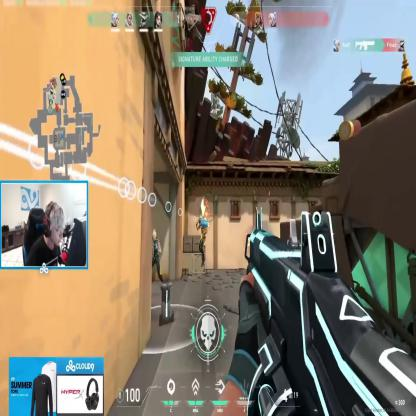enemy: (144, 228, 164, 288), (195, 212, 207, 268)
enemy_head: (152, 229, 156, 242)
